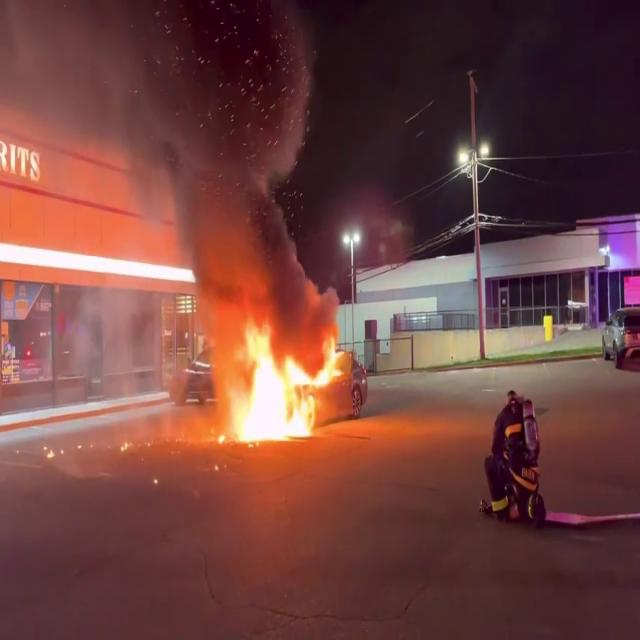Fire: (213, 319, 339, 445)
Smoke: (56, 0, 328, 305)
